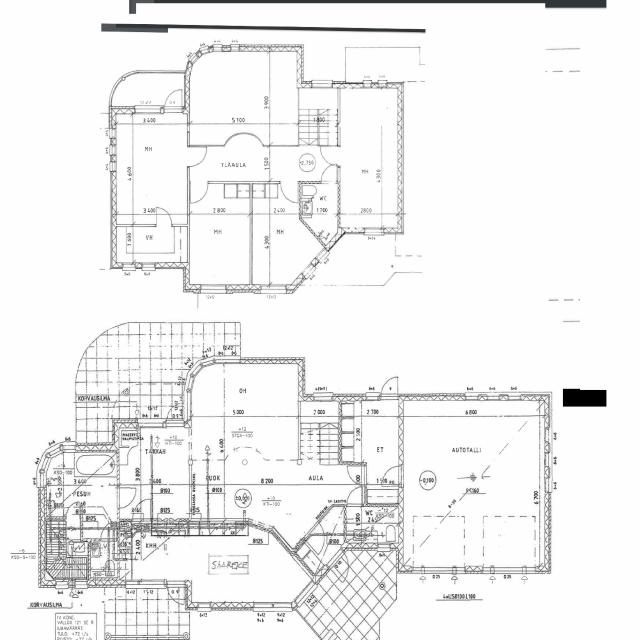door: (326, 548, 356, 584), (303, 522, 332, 555), (165, 85, 182, 114), (166, 400, 182, 428), (381, 466, 403, 486), (381, 373, 397, 400), (168, 580, 184, 606), (132, 498, 150, 521), (280, 180, 298, 203), (348, 466, 368, 486), (190, 181, 208, 203), (117, 488, 136, 508), (321, 163, 337, 184), (187, 148, 205, 166), (322, 148, 340, 166), (100, 521, 116, 541), (347, 486, 363, 506), (156, 206, 172, 226), (66, 502, 80, 520)
